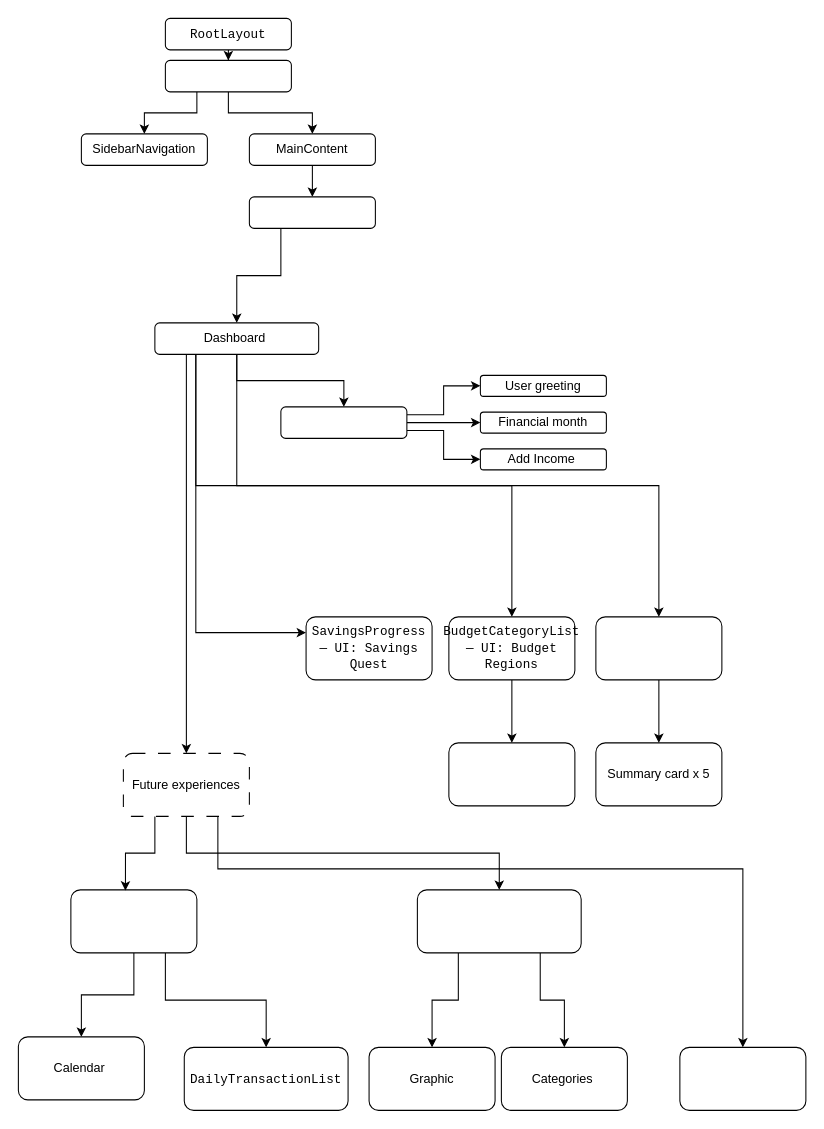
Image size: 824x1129. Some labels were removed from this diagram. The shapes that lost their labels are listed below. From the top down, each one's box as (x1, y1, x2, y2) in pixels, then its label:
(164, 59, 291, 92): AppShell
(248, 196, 375, 228): HomePage
(280, 406, 407, 438): DashBoardHeader
(595, 616, 722, 680): Financial summary
(448, 742, 575, 806): BudgetCategoryCard × category
(70, 889, 197, 953): Transactions Component
(416, 889, 581, 953): CategorySpendingChart
(679, 1046, 806, 1110): Goals
